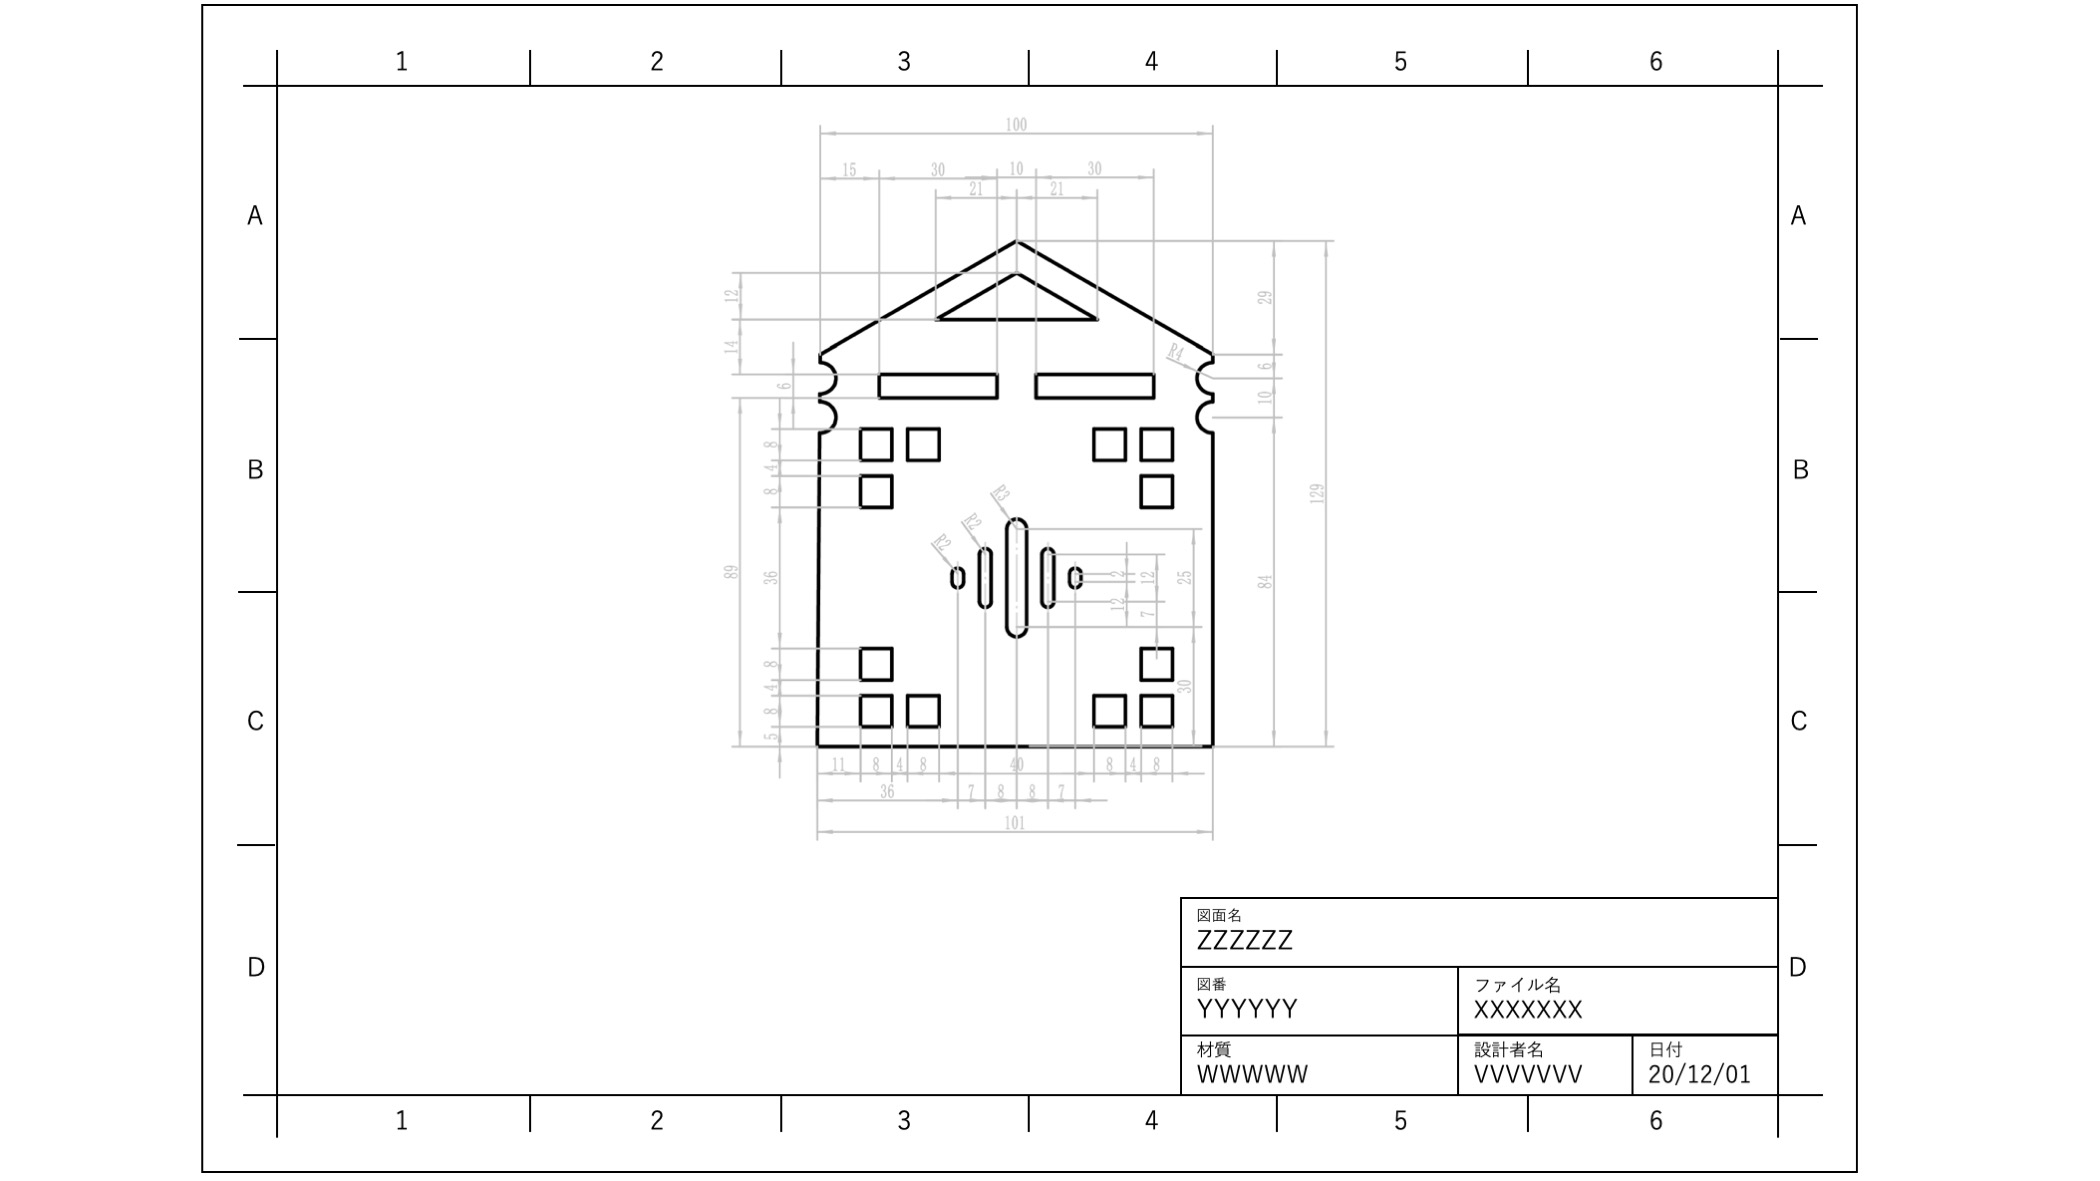rectangle: (1028, 365, 1158, 407), (870, 363, 1001, 404), (850, 421, 896, 464), (901, 420, 945, 466), (1086, 423, 1129, 469), (1134, 423, 1178, 466), (852, 470, 896, 513), (1086, 688, 1128, 733), (1134, 642, 1175, 685), (901, 688, 942, 733), (852, 643, 896, 684), (1134, 688, 1174, 730), (1135, 473, 1175, 513), (852, 689, 891, 731)
round_rectangle: (1001, 508, 1031, 643), (1036, 541, 1059, 614), (976, 541, 995, 622), (1067, 557, 1086, 598), (945, 561, 966, 590)
triangle: (933, 262, 1103, 327)
